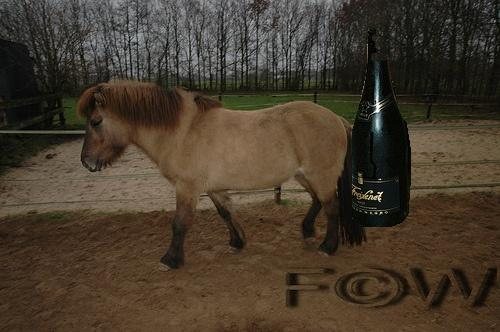tampered: (353, 30, 411, 227)
